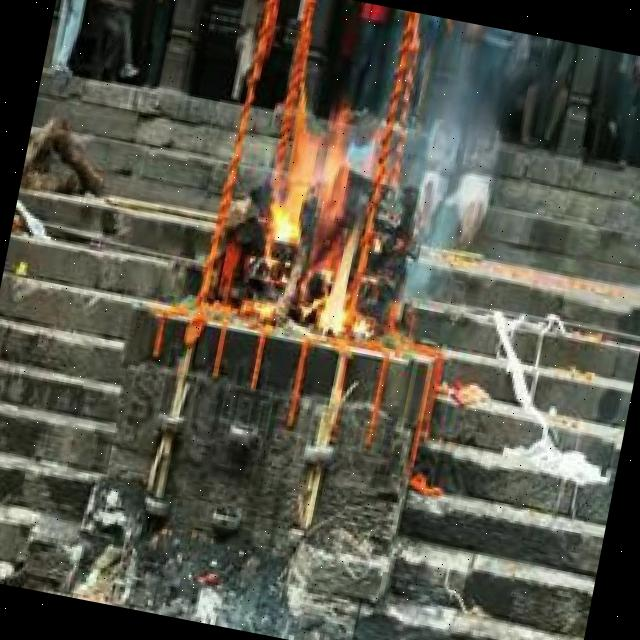fire: (248, 96, 412, 344)
